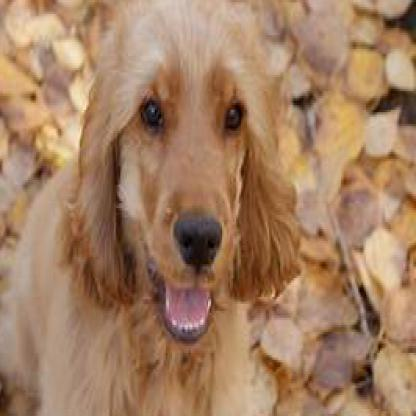dog: (0, 0, 304, 414)
